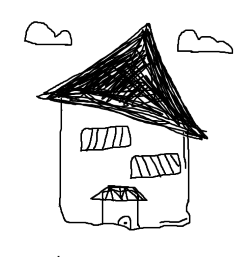closed_window: (70, 121, 135, 153), (125, 150, 183, 184)
clouds: (169, 11, 239, 67), (18, 12, 80, 55)
door: (86, 176, 152, 232)
shaded_roof: (38, 22, 221, 150)
wall: (52, 100, 201, 241)
